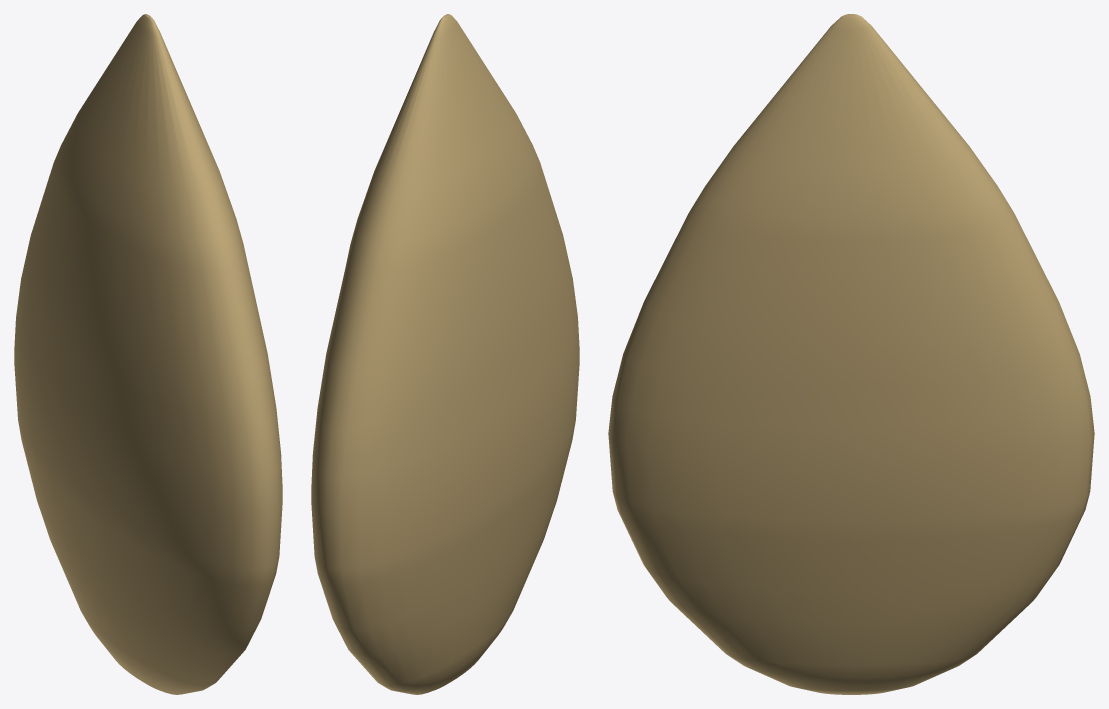
Rendered from seed.fbx.
The picture shows the model from 3 angles, left to right: view 1: azimuth 30°, elevation 25°; view 2: azimuth 150°, elevation 25°; view 3: azimuth 270°, elevation 25°; orthographic projection. The views are drawn at different scales.
Parts seen in each view (by area): view 1: Seed; view 2: Seed; view 3: Seed.
Part boxes in pixels (x1,y1,x2,y2): Seed: (14, 14, 282, 694); Seed: (311, 14, 579, 694); Seed: (608, 14, 1094, 694).
Size of the model in its own units: 67.03 by 335 by 218.
